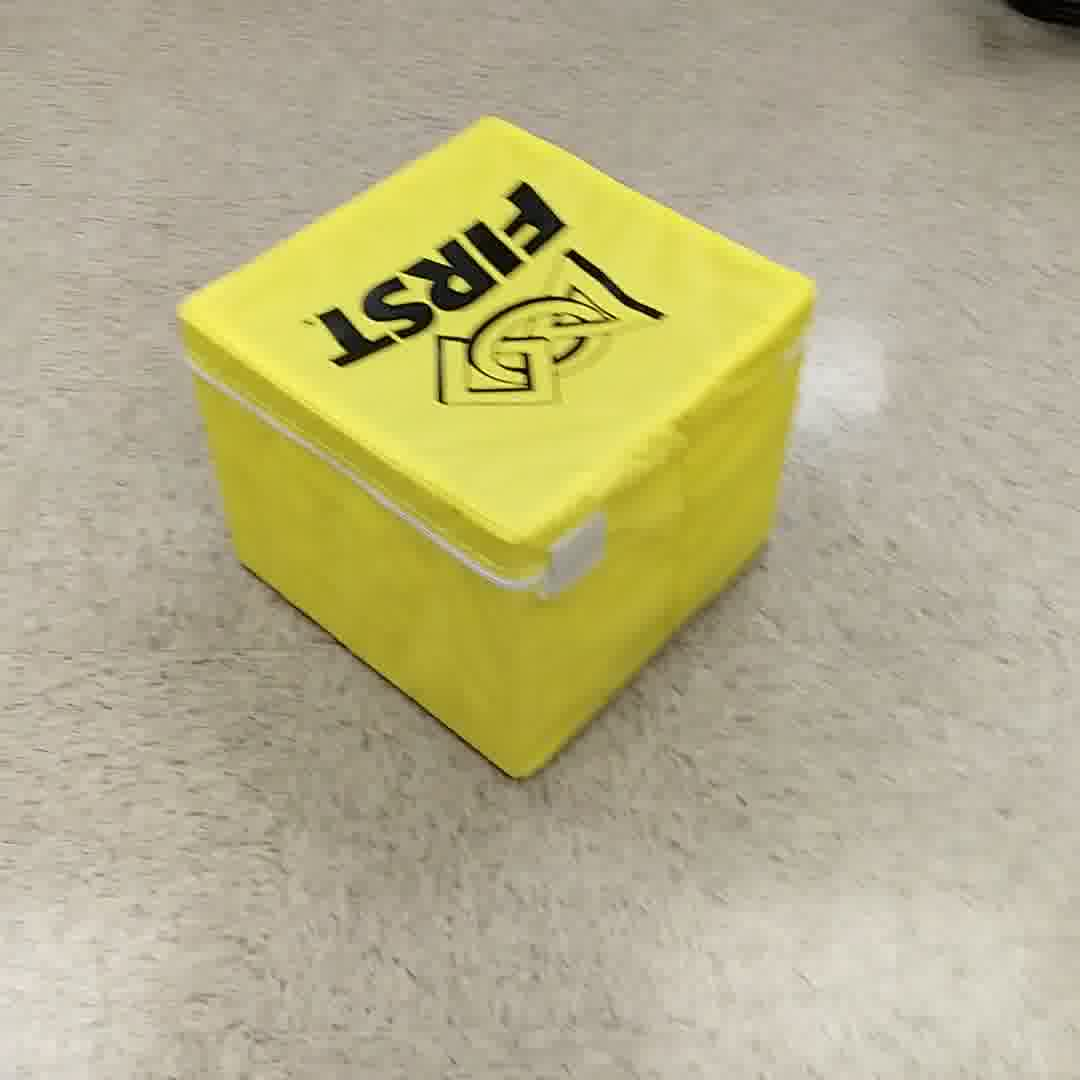box: (147, 104, 819, 777)
